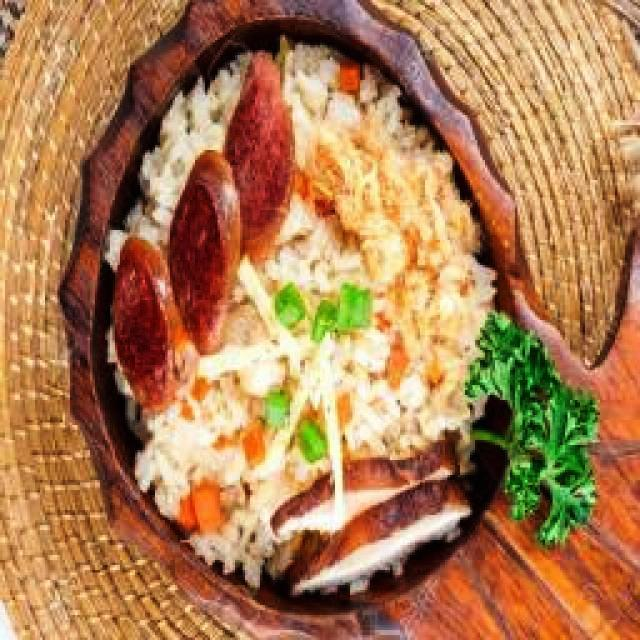Fried Rice: (104, 44, 494, 585)
chinese_sausage: (112, 58, 295, 409)
